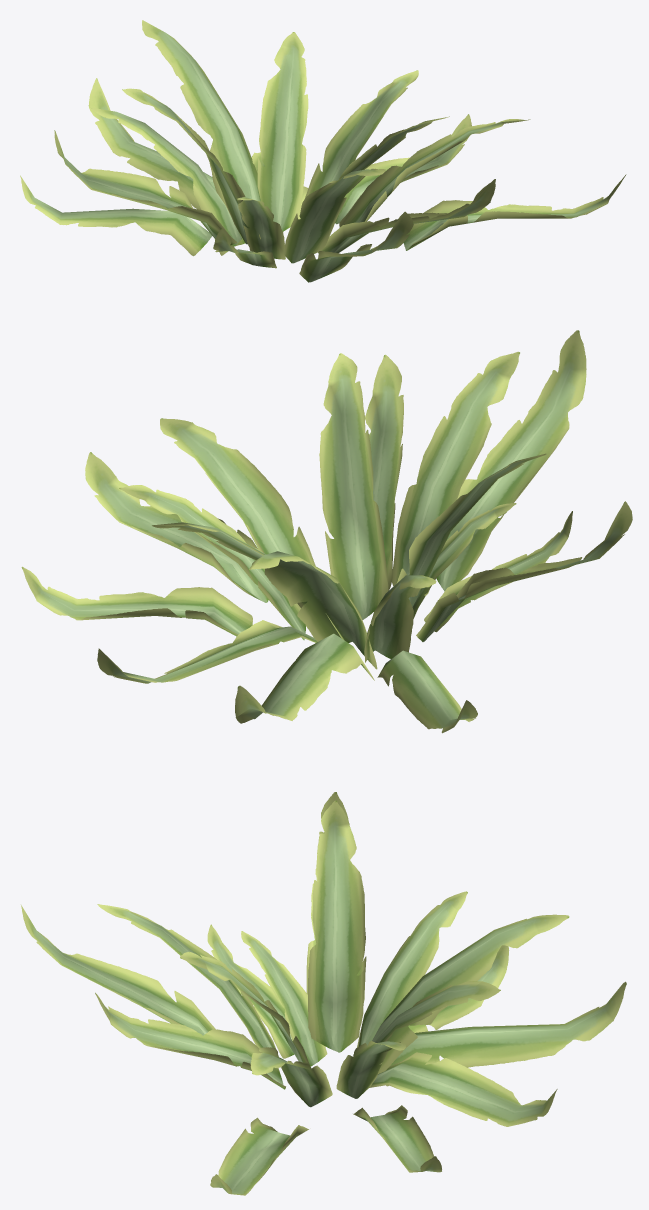
The model's file is SM_SnakeGrass.fbx.
3 renders of one model, top to bottom at view 1: azimuth 30°, elevation 25°; view 2: azimuth 150°, elevation 25°; view 3: azimuth 270°, elevation 25°, orthographic. The views are drawn at different scales.
Visible parts, largest first — view 1: SM_SnakeGrass; view 2: SM_SnakeGrass; view 3: SM_SnakeGrass.
Part boxes in pixels (x1,y1,x2,y2): SM_SnakeGrass: (20, 20, 626, 282); SM_SnakeGrass: (21, 330, 632, 733); SM_SnakeGrass: (21, 792, 626, 1195).
Bounding box in the file's own units: 126 × 49.98 × 127.
Materials: 1 (1 with a texture image).
